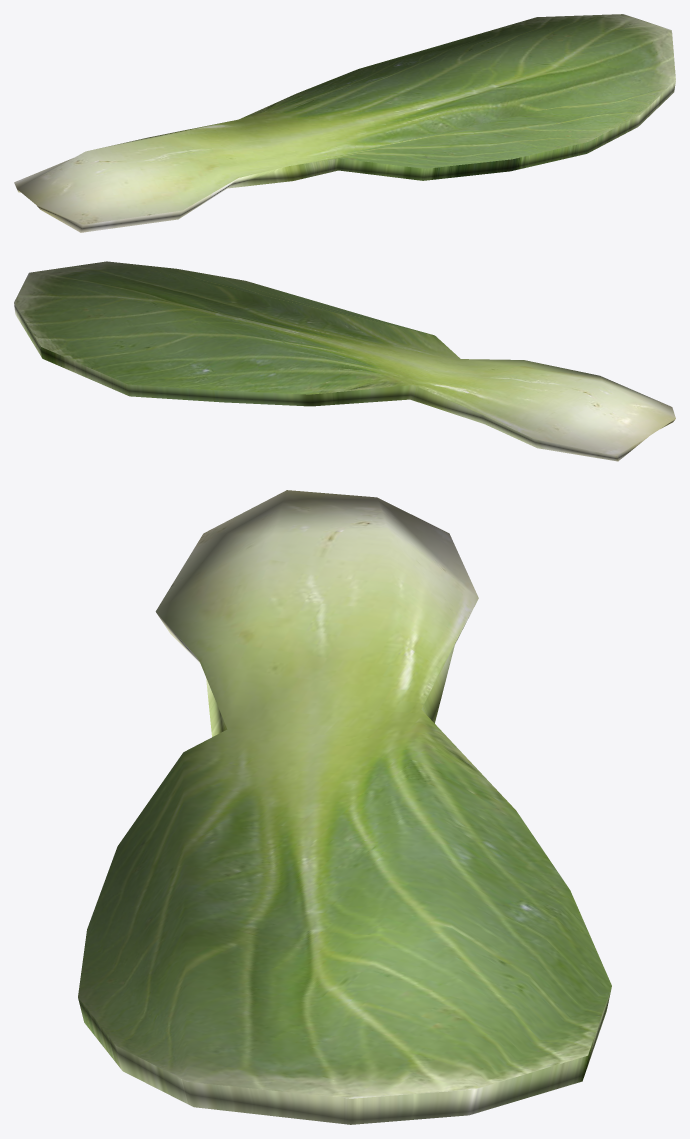
The model's file is CheongGeong1.fbx.
3 views of the same model, one above another, from view 1: azimuth 30°, elevation 25°; view 2: azimuth 150°, elevation 25°; view 3: azimuth 270°, elevation 25° (orthographic). The views are drawn at different scales.
Visible parts, largest first — view 1: Plane; view 2: Plane; view 3: Plane.
Part boxes in pixels (x1,y1,x2,y2): Plane: (14, 14, 675, 232); Plane: (14, 261, 675, 461); Plane: (78, 490, 611, 1124).
Bounding box in the file's own units: 303 × 22.31 × 111.
